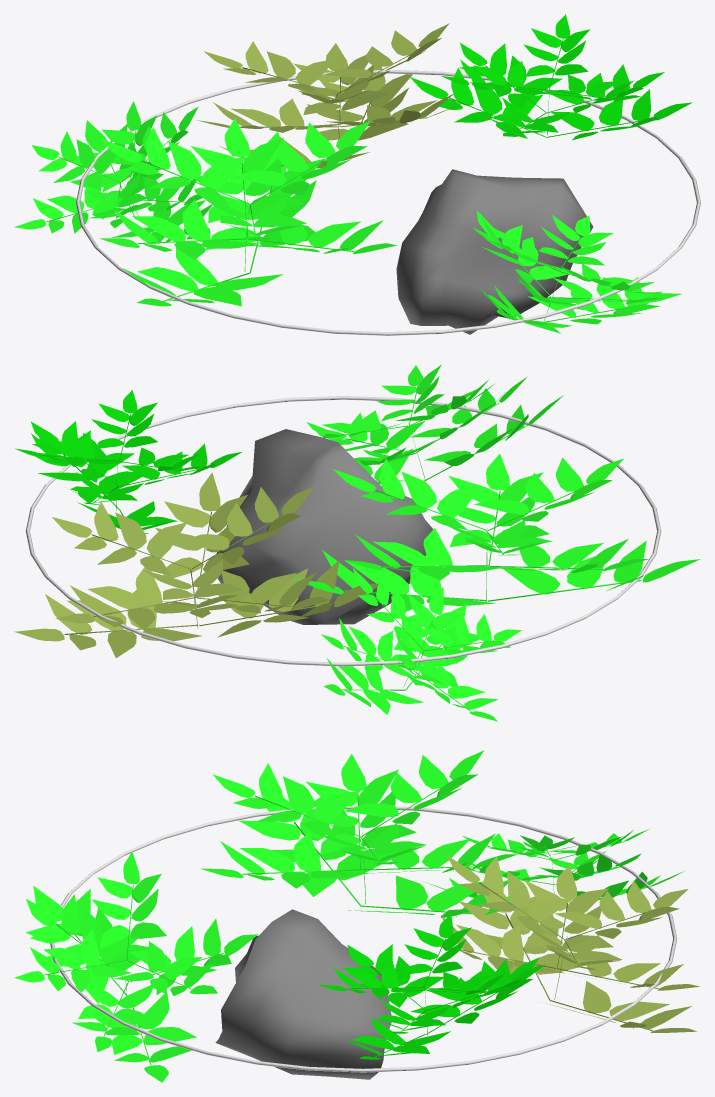
The model's file is static_grass.fbx.
3 views of the same model, one above another, from view 1: azimuth 30°, elevation 25°; view 2: azimuth 150°, elevation 25°; view 3: azimuth 270°, elevation 25° (orthographic).
Visible parts, largest first — view 1: plant.002, Cube, plant.001, plant, plant.004, plant.003, Torus; view 2: plant, plant.002, Cube, plant.004, plant.001, plant.003, Torus; view 3: plant.002, Cube, plant.003, plant, plant.001, Torus, plant.004.
Part boxes in pixels (left/top/right/bottom): plant.002: left=100, top=118, right=396, bottom=306; Cube: left=396, top=169, right=593, bottom=334; plant.001: left=410, top=14, right=692, bottom=140; plant: left=196, top=23, right=459, bottom=168; plant.004: left=14, top=101, right=212, bottom=243; plant.003: left=470, top=210, right=681, bottom=333; Torus: left=76, top=69, right=700, bottom=335; plant: left=14, top=472, right=378, bottom=657; plant.002: left=293, top=453, right=700, bottom=611; Cube: left=216, top=429, right=433, bottom=624; plant.004: left=321, top=568, right=521, bottom=721; plant.001: left=15, top=390, right=241, bottom=533; plant.003: left=307, top=364, right=563, bottom=484; Torus: left=25, top=396, right=661, bottom=666; plant.002: left=200, top=750, right=517, bottom=917; Cube: left=215, top=909, right=391, bottom=1079; plant.003: left=14, top=851, right=257, bottom=1082; plant: left=439, top=855, right=699, bottom=1032; plant.001: left=318, top=914, right=545, bottom=1059; Torus: left=50, top=805, right=677, bottom=1072; plant.004: left=423, top=829, right=685, bottom=907.
Bounding box in the file's own units: 3.37 × 0.9936 × 3.3.
